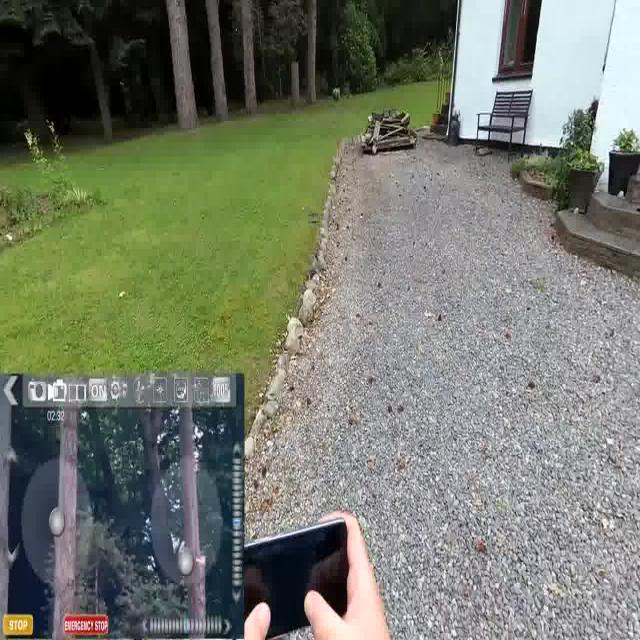drones: (307, 203, 323, 230)
